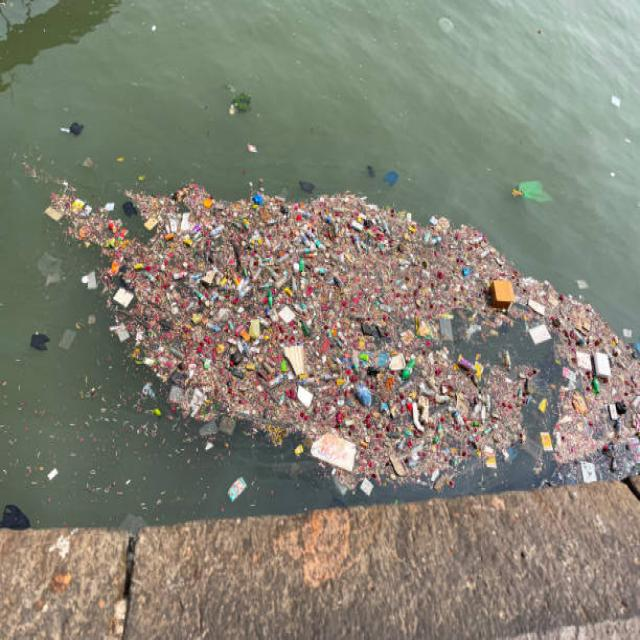garbage: (41, 173, 639, 486)
